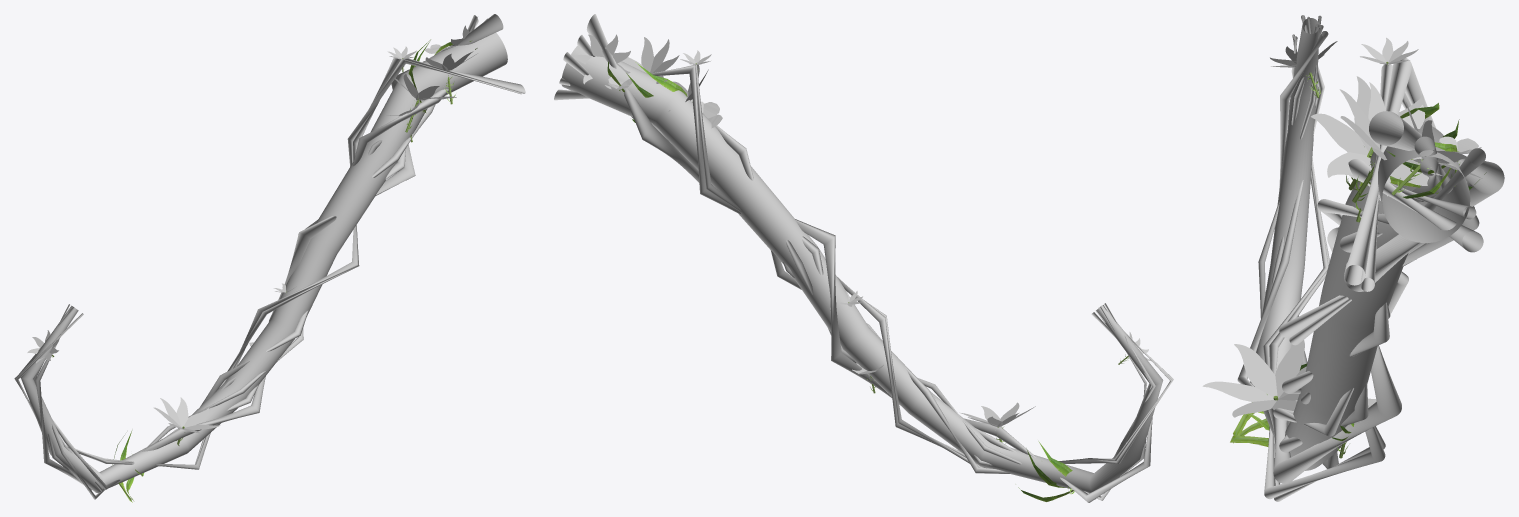
Rendered from vine_v2 5.fbx.
The picture shows the model from 3 angles, left to right: view 1: azimuth 30°, elevation 25°; view 2: azimuth 150°, elevation 25°; view 3: azimuth 270°, elevation 25°; orthographic projection. The views are drawn at different scales.
Parts seen in each view (by area): view 1: BezierCurve.008; view 2: BezierCurve.008; view 3: BezierCurve.008.
Boxes of the visible parts, bbox=[...] form: BezierCurve.008: bbox=[14, 14, 525, 502]; BezierCurve.008: bbox=[554, 14, 1173, 502]; BezierCurve.008: bbox=[1202, 15, 1504, 501].
Bounding box in the file's own units: 1276 × 847 × 319.
